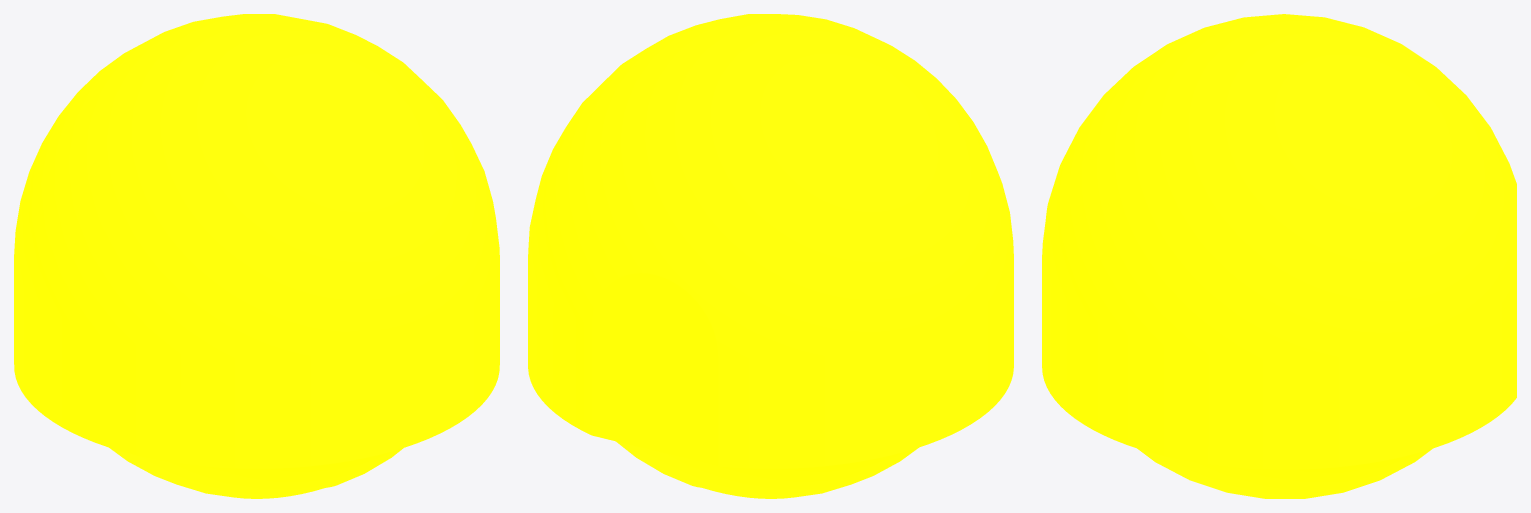
File: back.dae
3 renders of one model, left to right at view 1: azimuth 30°, elevation 25°; view 2: azimuth 150°, elevation 25°; view 3: azimuth 270°, elevation 25°, orthographic.
Parts seen in each view (by area): view 1: ID2; view 2: ID2; view 3: ID2.
Part boxes in pixels (x1,y1,x2,y2): ID2: (14,14,499,498); ID2: (528,14,1013,498); ID2: (1042,14,1516,498).
Bounding box in the file's own units: 0.1 × 0.0977 × 0.0986.
